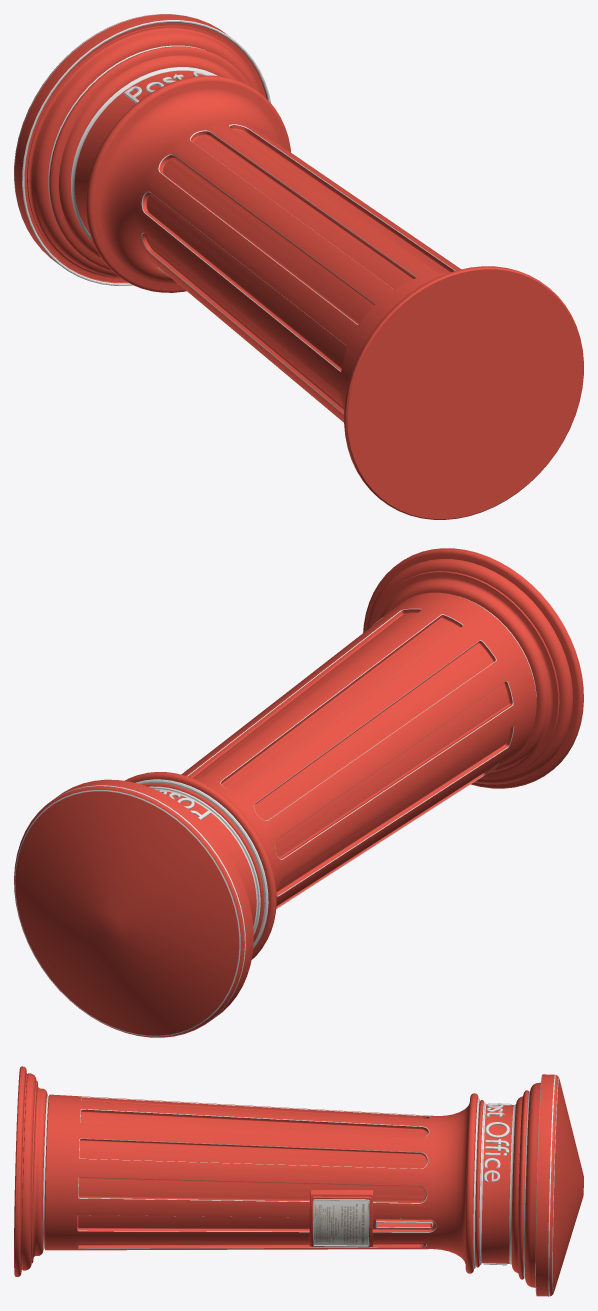
Rendered from asset.fbx.
3 renders of one model, top to bottom at view 1: azimuth 30°, elevation 25°; view 2: azimuth 150°, elevation 25°; view 3: azimuth 270°, elevation 25°, orthographic. The views are drawn at different scales.
Parts seen in each view (by area): view 1: post_box_02; view 2: post_box_02; view 3: post_box_02.
Part boxes in pixels (<box>): post_box_02: <box>14,14,583,519</box>; post_box_02: <box>14,548,583,1037</box>; post_box_02: <box>14,1066,583,1296</box>.
Bounding box in the file's own units: 686 × 661 × 1684.
5 materials, 1 textured.
